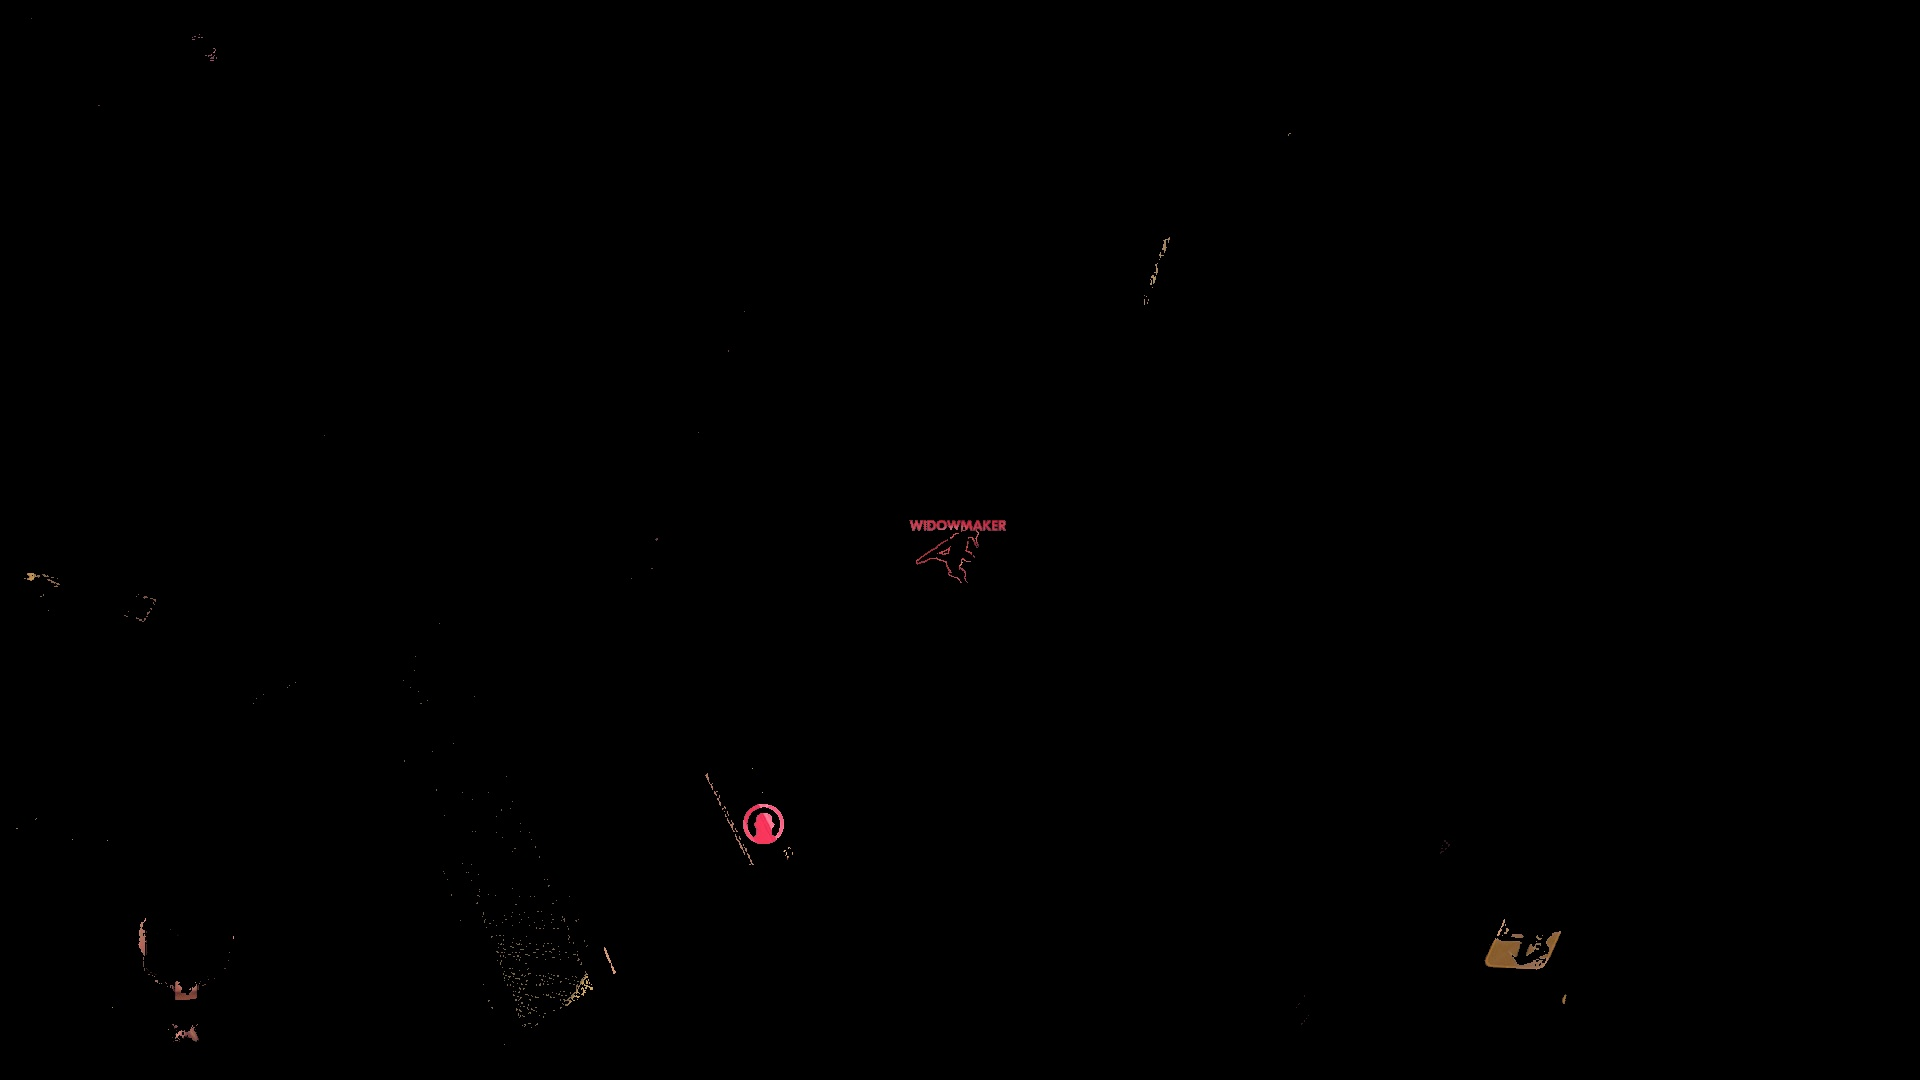widowmaker: (935, 529, 980, 589)
